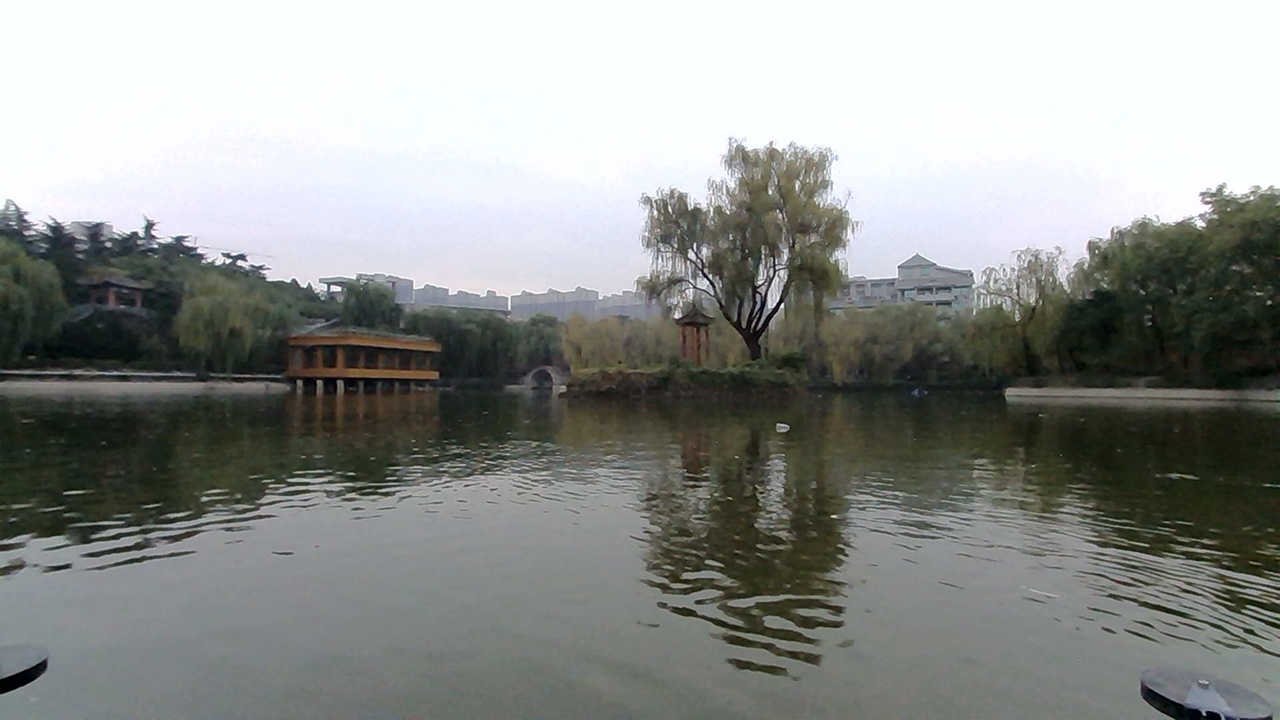bottle: (762, 407, 817, 439)
